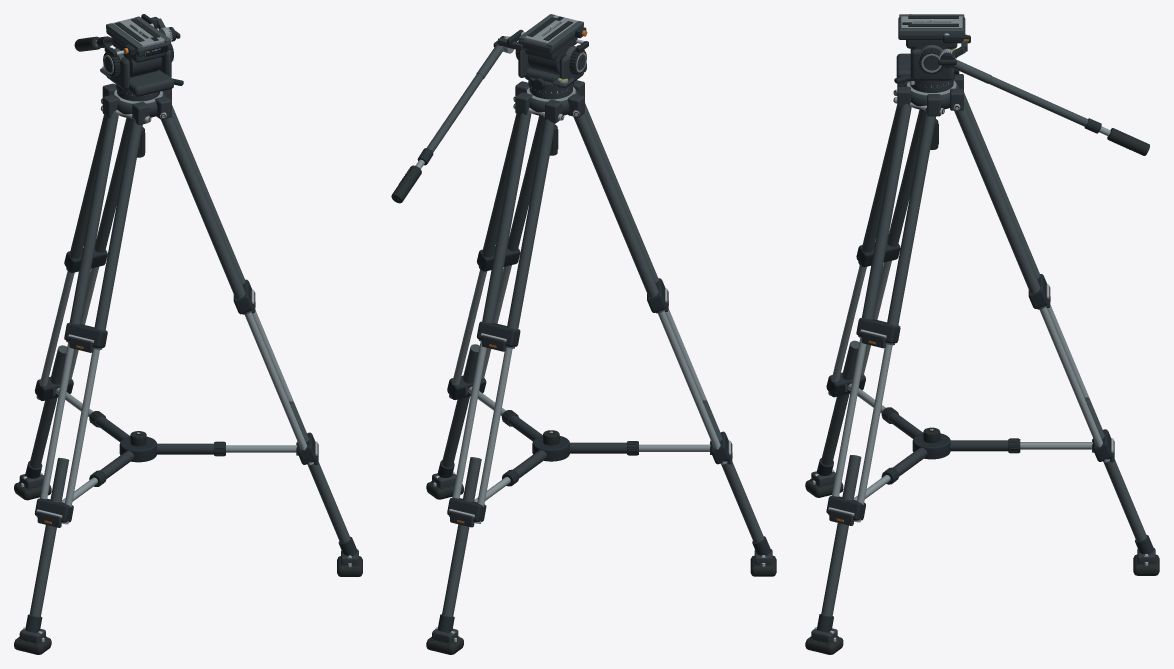
File: T06_Fluid_Tripod.glb
3 renders of one model, left to right at view 1: azimuth 30°, elevation 25°; view 2: azimuth 150°, elevation 25°; view 3: azimuth 270°, elevation 25°, orthographic.
Parts seen in each view (by area): view 1: PIVOT_LEG_02_SPLAY merged surfaces, PIVOT_LEG_03_SPLAY merged surfaces, PIVOT_LEG_01_SPLAY merged surfaces, PIVOT_PAN_Z merged surfaces, PIVOT_TILT_X merged surfaces, SLIDE_LEG_02_LOWER merged surfaces, 01_BOWL_CROWN merged surfaces, PIVOT_SPREADER_03 merged surfaces, SLIDE_LEG_03_LOWER merged surfaces, SLIDE_LEG_01_LOWER merged surfaces, T06_TRIPOD_ROOT merged surfaces, PIVOT_SPREADER_02 merged surfaces (+6 smaller); view 2: PIVOT_LEG_01_SPLAY merged surfaces, PIVOT_LEG_02_SPLAY merged surfaces, PIVOT_LEG_03_SPLAY merged surfaces, PIVOT_TILT_X merged surfaces, PIVOT_PAN_BAR_X merged surfaces, PIVOT_PAN_Z merged surfaces, SLIDE_LEG_01_LOWER merged surfaces, 01_BOWL_CROWN merged surfaces, SLIDE_LEG_02_LOWER merged surfaces, SLIDE_LEG_03_LOWER merged surfaces, PIVOT_SPREADER_02 merged surfaces, T06_TRIPOD_ROOT merged surfaces (+6 smaller); view 3: PIVOT_LEG_03_SPLAY merged surfaces, PIVOT_LEG_01_SPLAY merged surfaces, PIVOT_LEG_02_SPLAY merged surfaces, PIVOT_PAN_BAR_X merged surfaces, SLIDE_LEG_03_LOWER merged surfaces, PIVOT_PAN_Z merged surfaces, 01_BOWL_CROWN merged surfaces, PIVOT_TILT_X merged surfaces, SLIDE_LEG_01_LOWER merged surfaces, SLIDE_LEG_02_LOWER merged surfaces, PIVOT_SPREADER_01 merged surfaces, T06_TRIPOD_ROOT merged surfaces (+6 smaller).
Part boxes in pixels (<box>): PIVOT_LEG_02_SPLAY merged surfaces: <box>34,111,142,524</box>; PIVOT_LEG_03_SPLAY merged surfaces: <box>161,105,317,465</box>; PIVOT_LEG_01_SPLAY merged surfaces: <box>34,114,132,400</box>; PIVOT_PAN_Z merged surfaces: <box>100,43,173,96</box>; PIVOT_TILT_X merged surfaces: <box>106,16,170,77</box>; SLIDE_LEG_02_LOWER merged surfaces: <box>25,457,69,632</box>; 01_BOWL_CROWN merged surfaces: <box>101,83,171,124</box>; PIVOT_SPREADER_03 merged surfaces: <box>156,441,298,456</box>; SLIDE_LEG_03_LOWER merged surfaces: <box>289,401,357,555</box>; SLIDE_LEG_01_LOWER merged surfaces: <box>25,345,67,478</box>; T06_TRIPOD_ROOT merged surfaces: <box>119,431,157,462</box>; PIVOT_SPREADER_02 merged surfaces: <box>61,450,134,502</box>; PIVOT_LEG_01_SPLAY merged surfaces: <box>447,110,555,523</box>; PIVOT_LEG_02_SPLAY merged surfaces: <box>573,103,731,464</box>; PIVOT_LEG_03_SPLAY merged surfaces: <box>447,113,544,399</box>; PIVOT_TILT_X merged surfaces: <box>497,14,587,75</box>; PIVOT_PAN_BAR_X merged surfaces: <box>391,36,507,203</box>; PIVOT_PAN_Z merged surfaces: <box>515,39,586,93</box>; SLIDE_LEG_01_LOWER merged surfaces: <box>437,457,481,632</box>; 01_BOWL_CROWN merged surfaces: <box>513,80,584,122</box>; SLIDE_LEG_02_LOWER merged surfaces: <box>702,400,771,555</box>; SLIDE_LEG_03_LOWER merged surfaces: <box>437,344,479,477</box>; PIVOT_SPREADER_02 merged surfaces: <box>569,441,711,455</box>; T06_TRIPOD_ROOT merged surfaces: <box>532,430,569,461</box>; PIVOT_LEG_03_SPLAY merged surfaces: <box>826,103,936,522</box>; PIVOT_LEG_01_SPLAY merged surfaces: <box>954,92,1113,462</box>; PIVOT_LEG_02_SPLAY merged surfaces: <box>826,105,925,397</box>; PIVOT_PAN_BAR_X merged surfaces: <box>938,51,1149,155</box>; SLIDE_LEG_03_LOWER merged surfaces: <box>816,455,861,632</box>; PIVOT_PAN_Z merged surfaces: <box>896,45,959,87</box>; 01_BOWL_CROWN merged surfaces: <box>893,74,963,116</box>; PIVOT_TILT_X merged surfaces: <box>898,14,967,59</box>; SLIDE_LEG_01_LOWER merged surfaces: <box>1084,397,1153,554</box>; SLIDE_LEG_02_LOWER merged surfaces: <box>816,340,859,475</box>; PIVOT_SPREADER_01 merged surfaces: <box>950,438,1093,453</box>; T06_TRIPOD_ROOT merged surfaces: <box>912,427,950,459</box>.
Size of the model in its own units: 0.873 by 1.3 by 0.7587.
12 materials, 2 textured.
